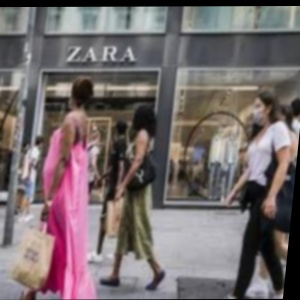zara: (101, 23, 185, 57)
